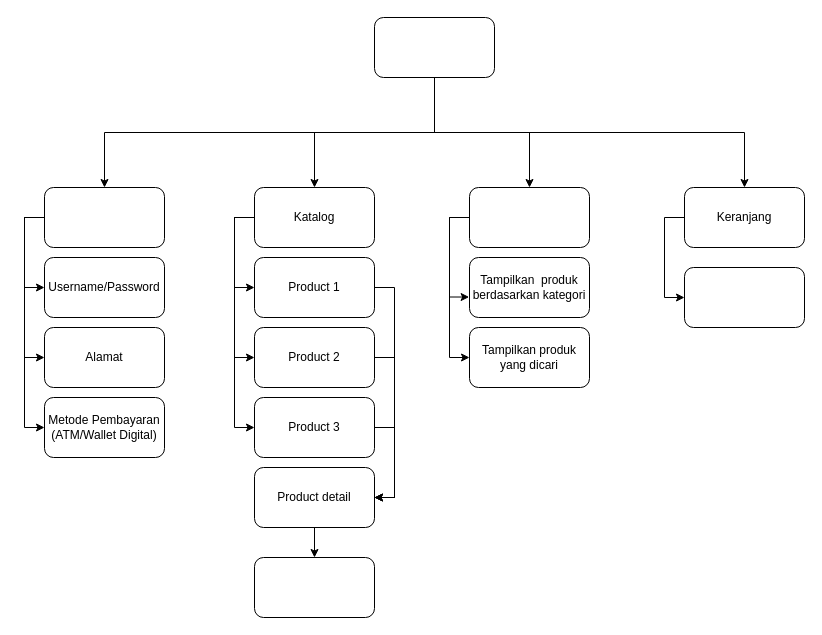
Image size: 822x635. Some labels were removed from this diagram. The centre of each missing label's shape, as x and y in pixels:
"Add to chart" belongs at (314,587).
"Checkout" belongs at (744,297).
"Home" belongs at (434,47).
"Search" belongs at (529,217).
"Sign up/Login" belongs at (104,217).
